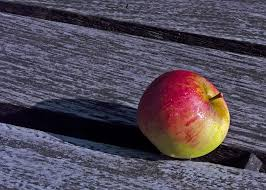apple: (139, 72, 228, 159)
